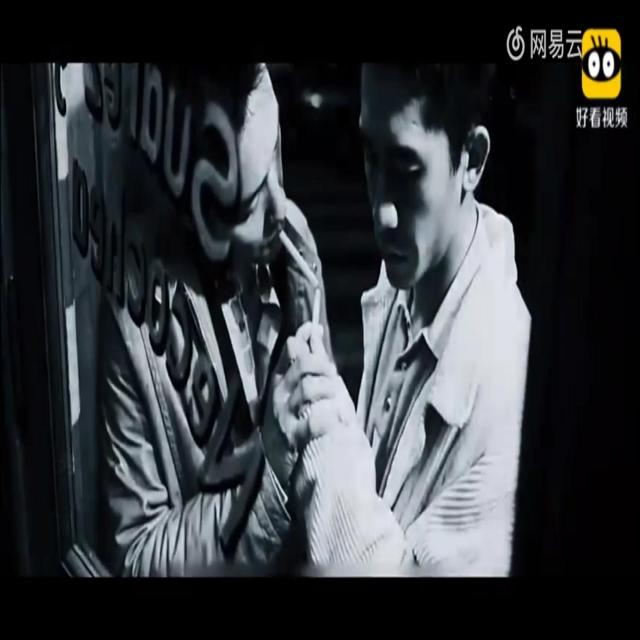Сигарета: (280, 227, 318, 289), (312, 277, 321, 330)
Тело: (105, 58, 325, 580), (326, 57, 537, 579)
